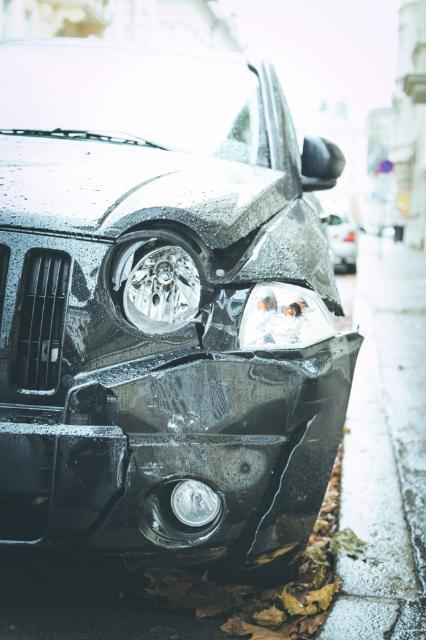Bonnet: (84, 148, 324, 259)
Bumper: (0, 347, 392, 606)
Light: (205, 285, 366, 356), (111, 248, 220, 335)
